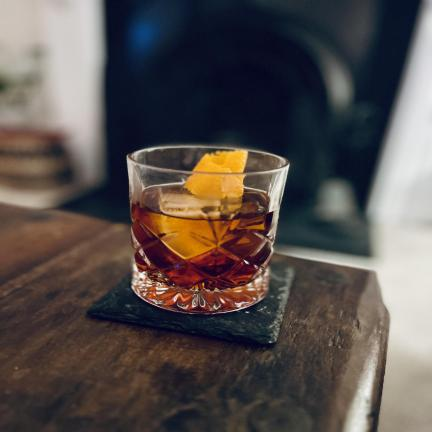container: (127, 147, 289, 313)
fluid: (131, 205, 277, 290)
fluid-surface: (136, 186, 277, 217)
